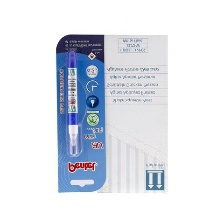book: (94, 32, 170, 196), (55, 32, 106, 194)
correction_fluid: (63, 46, 83, 159)
